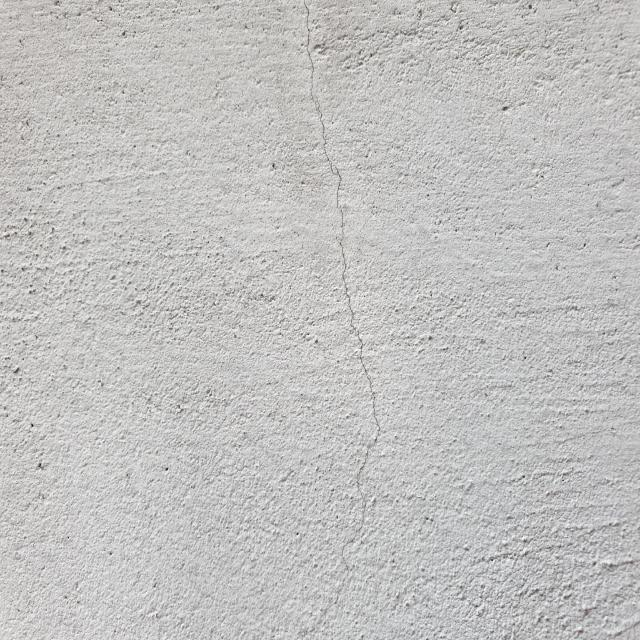SurfaceCrack: (268, 1, 408, 639)
